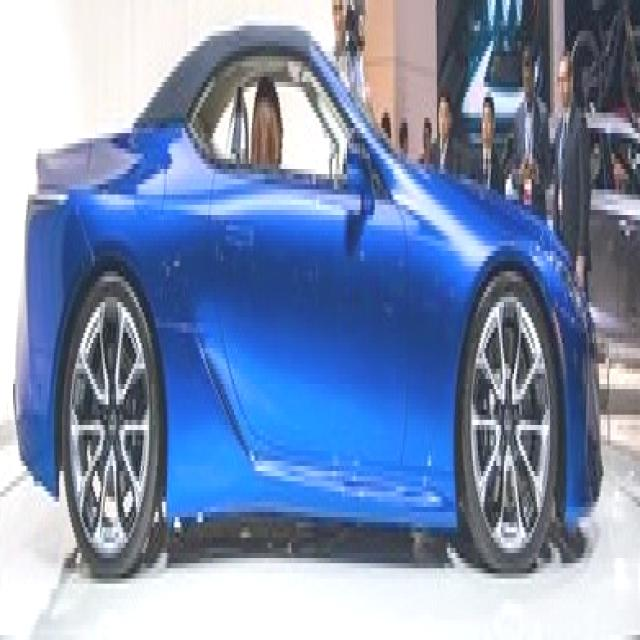blue: (16, 16, 600, 569)
